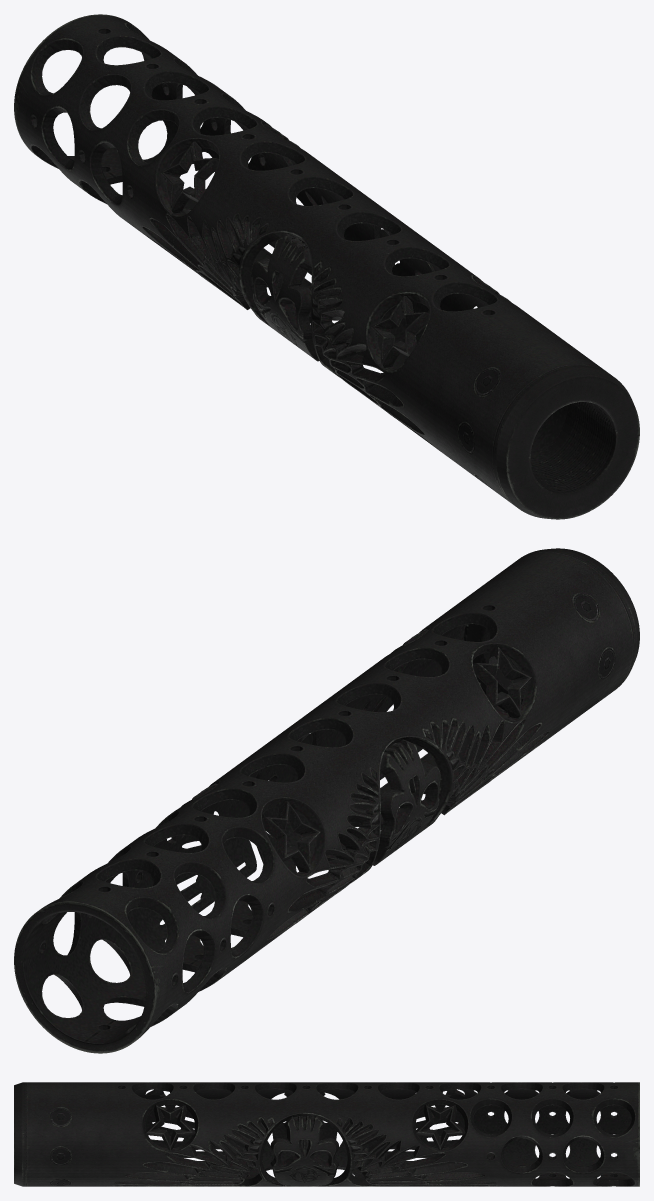
The picture shows the model from 3 angles, top to bottom: view 1: azimuth 30°, elevation 25°; view 2: azimuth 150°, elevation 25°; view 3: azimuth 270°, elevation 25°; orthographic projection. The views are drawn at different scales.
Visible parts, largest first — view 1: TW_6087e0336d0bd7580617bb7a_PZ_Import; view 2: TW_6087e0336d0bd7580617bb7a_PZ_Import; view 3: TW_6087e0336d0bd7580617bb7a_PZ_Import.
Part boxes in pixels (box(x1,y1,x2,y2)): TW_6087e0336d0bd7580617bb7a_PZ_Import: box(14, 14, 639, 519); TW_6087e0336d0bd7580617bb7a_PZ_Import: box(14, 548, 639, 1053); TW_6087e0336d0bd7580617bb7a_PZ_Import: box(14, 1082, 639, 1186).
Bounding box in the file's own units: 0.0295 × 0.1764 × 0.0294.
1 material, 1 textured.
